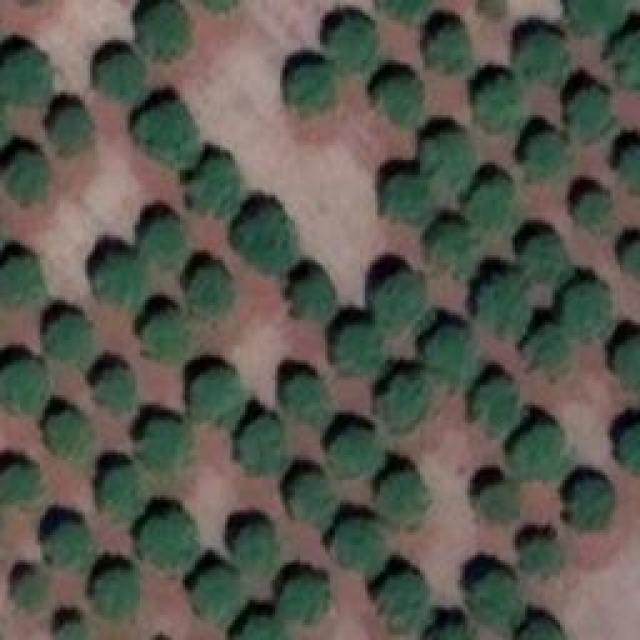Tree: (138, 103, 201, 166), (235, 205, 295, 270), (143, 512, 198, 570), (478, 278, 531, 333), (190, 370, 240, 428), (375, 272, 425, 330), (472, 573, 520, 633), (142, 0, 187, 62), (430, 330, 478, 388), (98, 255, 148, 310), (335, 520, 385, 575), (190, 158, 240, 213), (563, 285, 613, 340), (0, 50, 50, 103), (423, 133, 473, 186), (380, 575, 428, 630), (0, 360, 48, 410), (515, 428, 563, 478), (470, 182, 520, 230), (475, 80, 525, 128), (338, 325, 383, 378), (520, 30, 565, 83), (293, 473, 336, 528), (243, 415, 283, 473), (525, 235, 573, 283), (380, 473, 423, 526), (333, 18, 376, 71), (433, 223, 476, 276), (95, 55, 145, 100), (195, 570, 240, 620), (475, 380, 520, 430), (332, 428, 380, 473), (285, 377, 330, 425), (380, 377, 425, 425), (568, 478, 611, 528), (0, 257, 42, 307), (50, 110, 93, 158), (145, 312, 188, 360), (525, 325, 568, 373), (567, 0, 625, 35), (48, 318, 93, 363), (145, 423, 190, 468), (102, 468, 140, 521), (568, 88, 608, 138), (143, 220, 183, 268), (190, 267, 230, 315), (295, 275, 335, 323), (7, 155, 45, 205), (283, 578, 326, 621), (288, 65, 331, 108), (48, 523, 88, 566), (50, 413, 88, 458), (382, 80, 420, 125), (610, 35, 640, 90), (97, 368, 135, 411), (97, 570, 135, 613), (387, 178, 425, 221), (432, 30, 470, 73), (0, 465, 40, 505), (527, 133, 565, 173), (480, 482, 518, 520), (238, 525, 273, 565), (578, 193, 611, 233), (522, 540, 560, 573), (615, 340, 640, 385), (237, 617, 284, 640), (382, 0, 427, 22), (518, 622, 568, 640), (622, 428, 640, 478), (15, 575, 45, 603), (622, 148, 640, 188), (435, 625, 478, 640), (620, 240, 640, 270), (60, 622, 85, 640)
